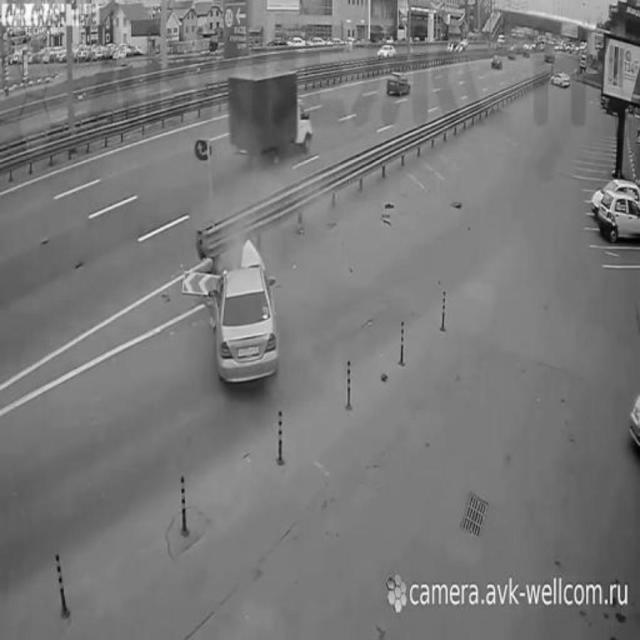vehicle: (226, 67, 314, 165), (213, 260, 279, 388), (598, 190, 640, 246), (383, 71, 411, 98), (549, 69, 573, 89), (376, 42, 396, 60), (491, 53, 506, 71)
